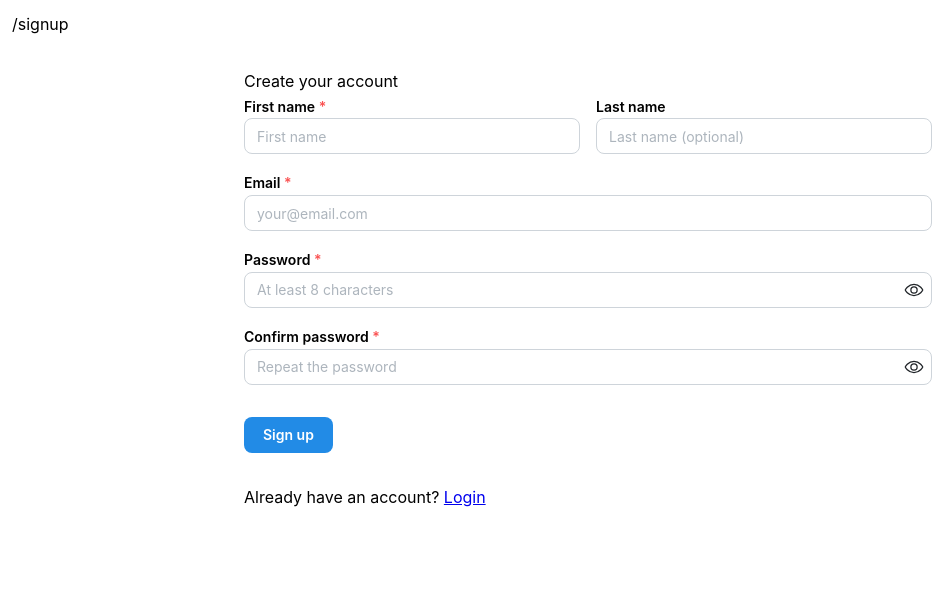
it: the sign-up page › keeps a server failure generic — no status line in the alert
Type "Sofía" into the field labelled "First name *" at {"x": 412, "y": 136}, box [244,118,580,154]
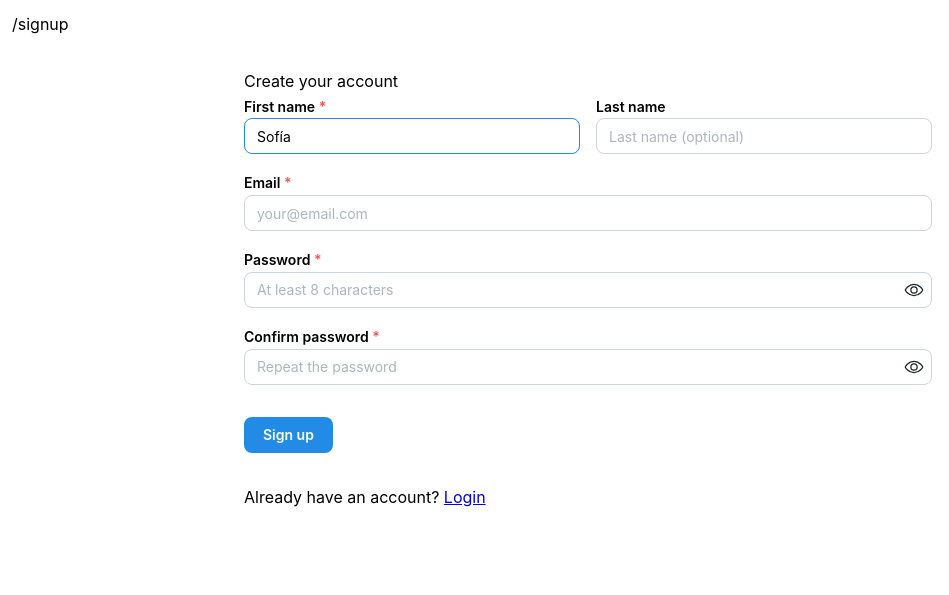
Type "Lara" into the field labelled "Last name" at {"x": 764, "y": 136}, box [596,118,932,154]
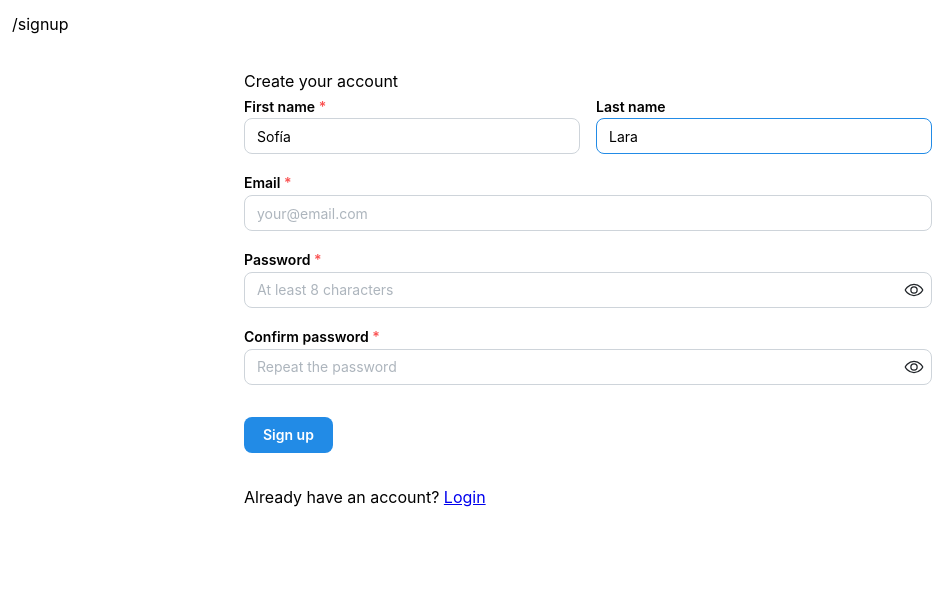
Type "new@example.test" into the field labelled "Email *" at {"x": 588, "y": 213}, box [244,195,932,231]
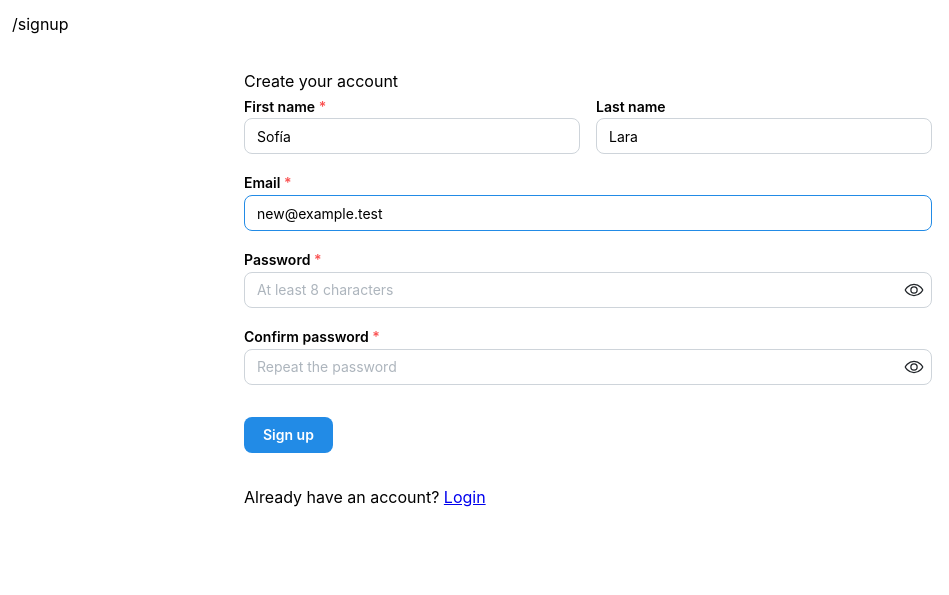
Type "sunlight-123" into the password field labelled "Password *" at {"x": 588, "y": 290}, box [245,273,931,307]
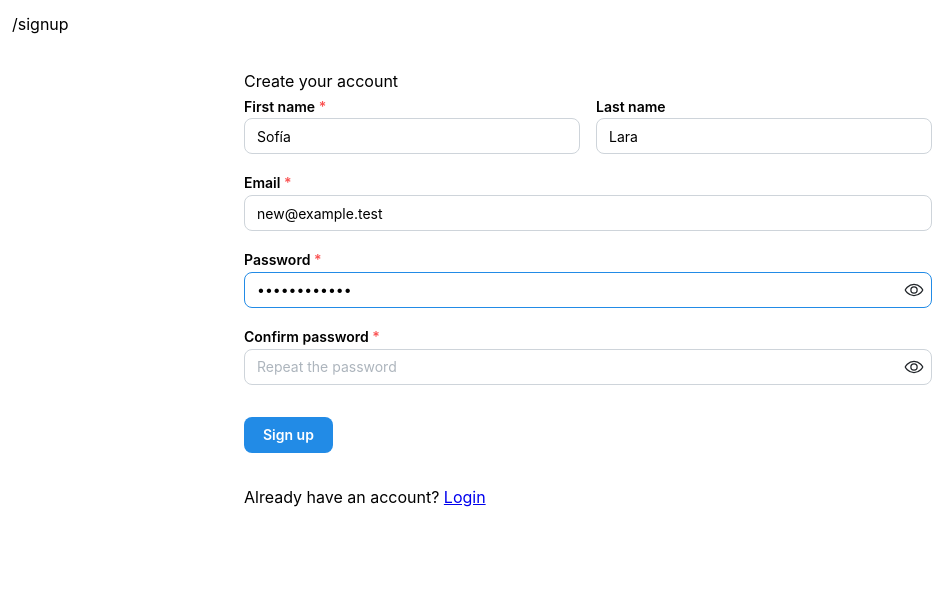
Type "sunlight-123" into the password field labelled "Confirm password *" at {"x": 588, "y": 367}, box [245,350,931,384]
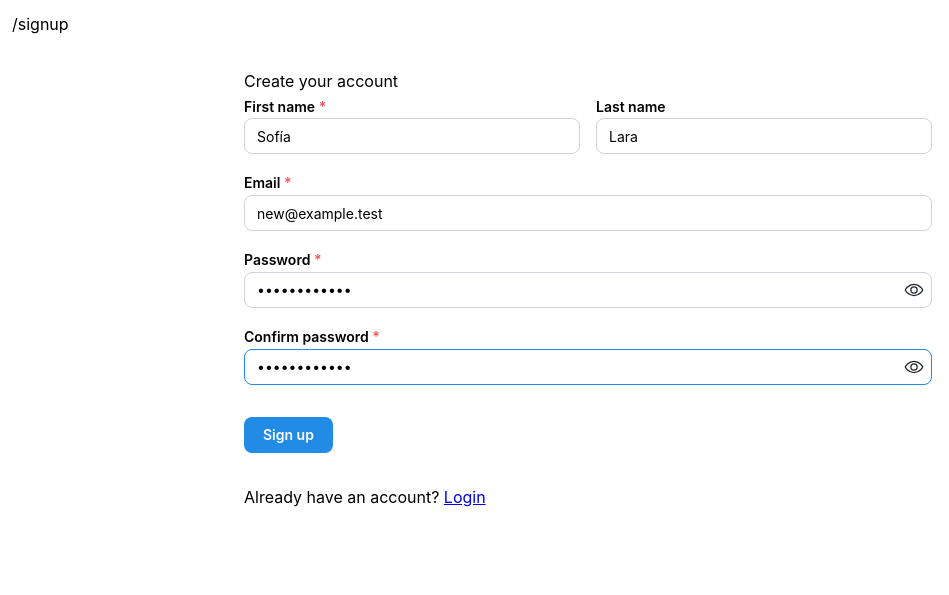
Click the button "Sign up" at {"x": 288, "y": 435}, box [244,417,333,453]
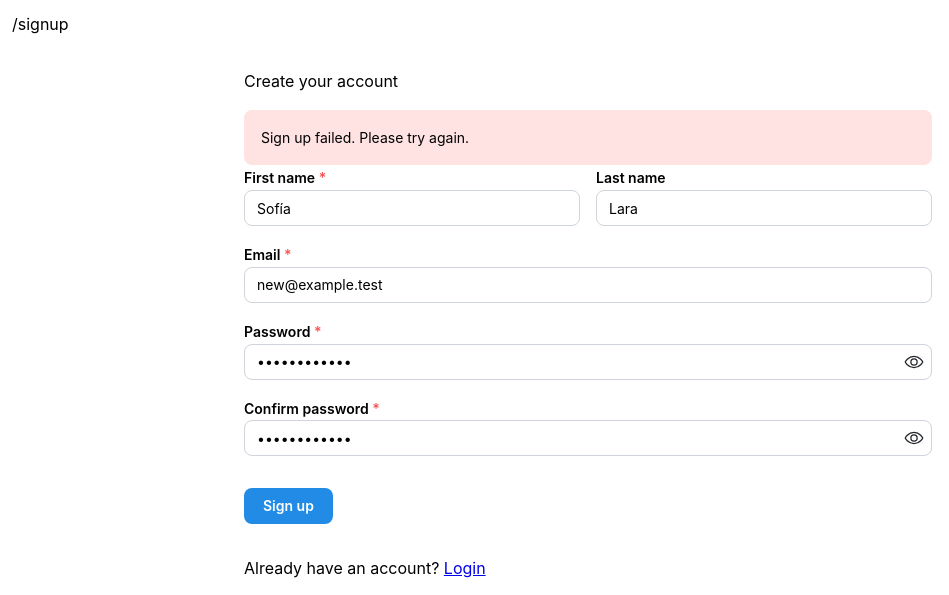
Expected: the text with test id "location" reads "/signup", [12,14,69,34]
Result: the text "Sign up failed. Please try again." is shown at [261,129,469,146]
